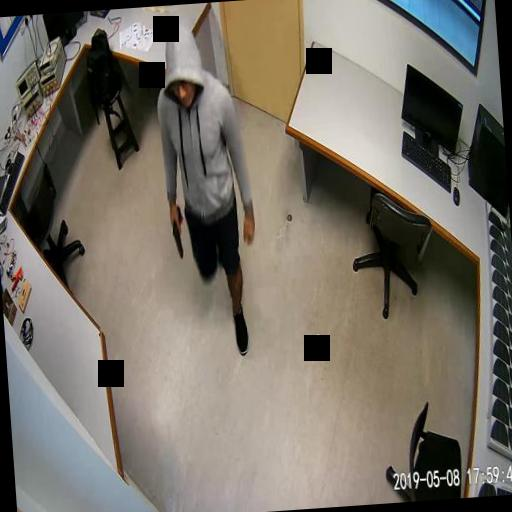Handgun: (167, 204, 184, 259)
